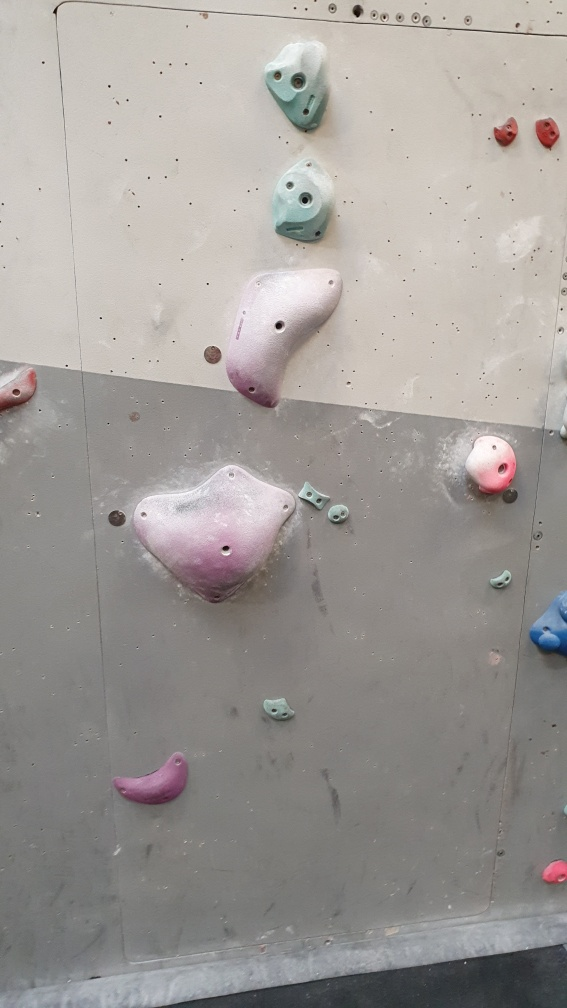Hand Start: (200, 341, 227, 368), (105, 504, 128, 531), (500, 486, 519, 505)
Jug: (264, 155, 343, 248), (267, 37, 335, 136)
Pinch: (1, 363, 44, 418), (297, 481, 335, 515), (483, 560, 517, 592)
Sloper: (526, 589, 567, 658)
